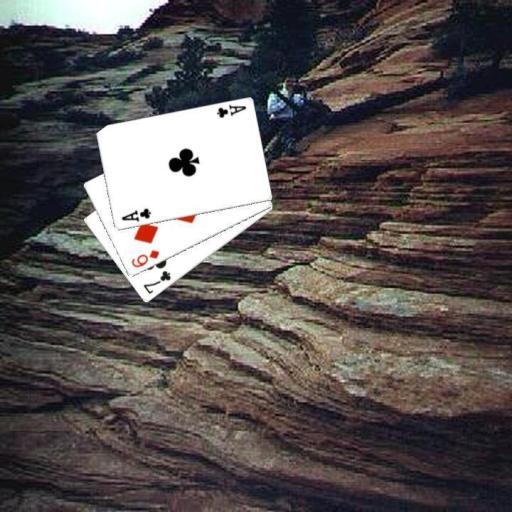card-corner: (140, 267, 173, 296), (128, 247, 161, 269), (118, 206, 152, 224), (214, 102, 248, 120)
